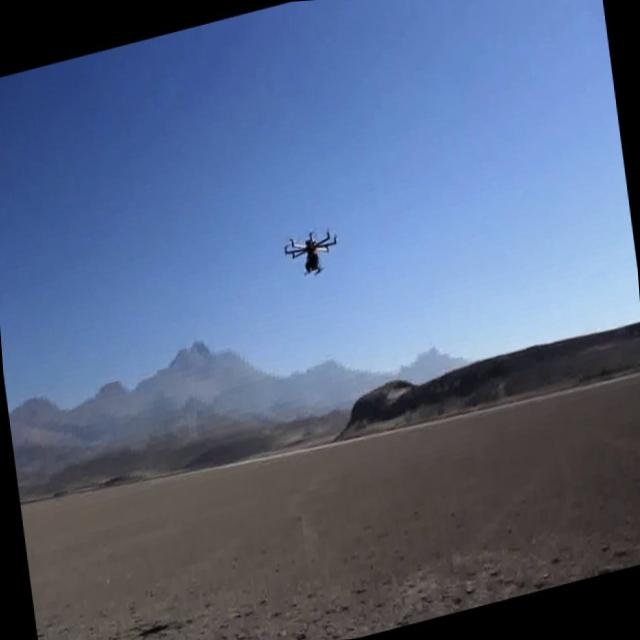drone: (280, 220, 342, 286)
